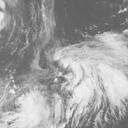cyclone: (51, 47, 117, 103)
